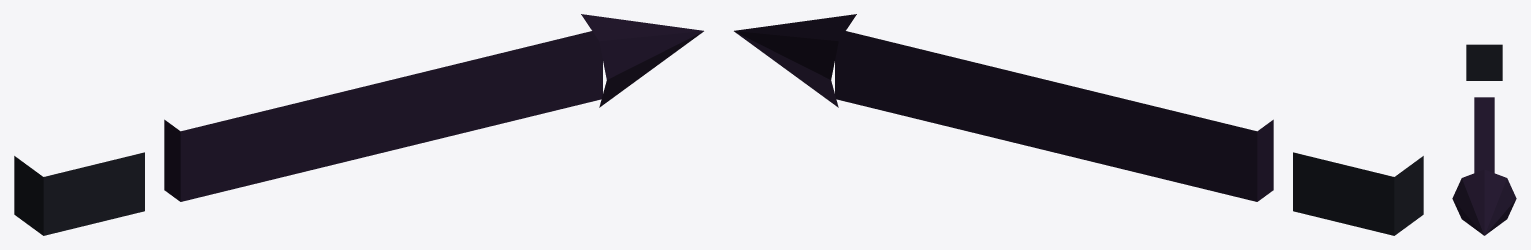
The model's file is dark-willow.glb.
The picture shows the model from 3 angles, left to right: view 1: azimuth 30°, elevation 25°; view 2: azimuth 150°, elevation 25°; view 3: azimuth 270°, elevation 25°; orthographic projection. The views are drawn at different scales.
Parts seen in each view (by area): view 1: dark-willow-blade, dark-willow-grip, dark-willow-tip; view 2: dark-willow-blade, dark-willow-grip, dark-willow-tip; view 3: dark-willow-tip, dark-willow-blade, dark-willow-grip.
Part boxes in pixels (x1,y1,x2,y2): dark-willow-blade: (164, 31, 602, 201); dark-willow-grip: (14, 152, 144, 235); dark-willow-tip: (581, 14, 703, 107); dark-willow-blade: (835, 31, 1273, 201); dark-willow-grip: (1293, 152, 1423, 235); dark-willow-tip: (734, 14, 856, 107); dark-willow-tip: (1452, 169, 1516, 235); dark-willow-blade: (1474, 97, 1494, 172); dark-willow-grip: (1466, 44, 1502, 80).
Bounding box in the file's own units: 1.2 × 0.16 × 0.16.
